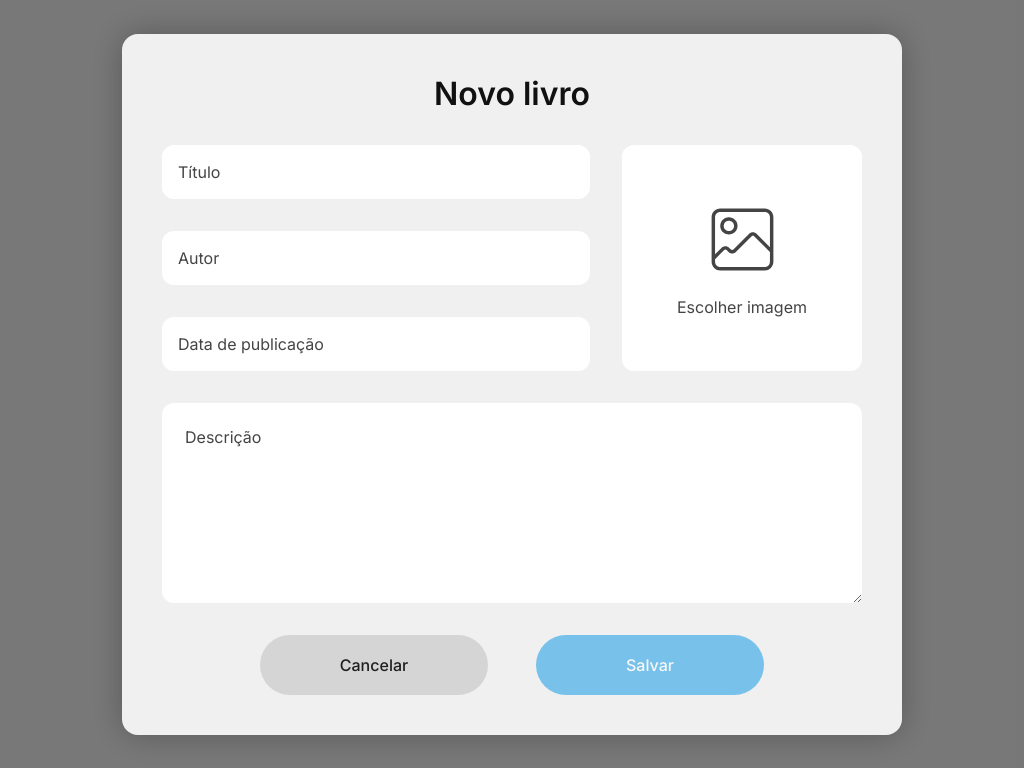
FormularioLivro › formata a data de publicação enquanto o usuário digita
Type "17081945" into the field with placeholder "Data de publicação".
click(376, 344); type("17081945")  # box x1=162 y1=316 x2=590 y2=370
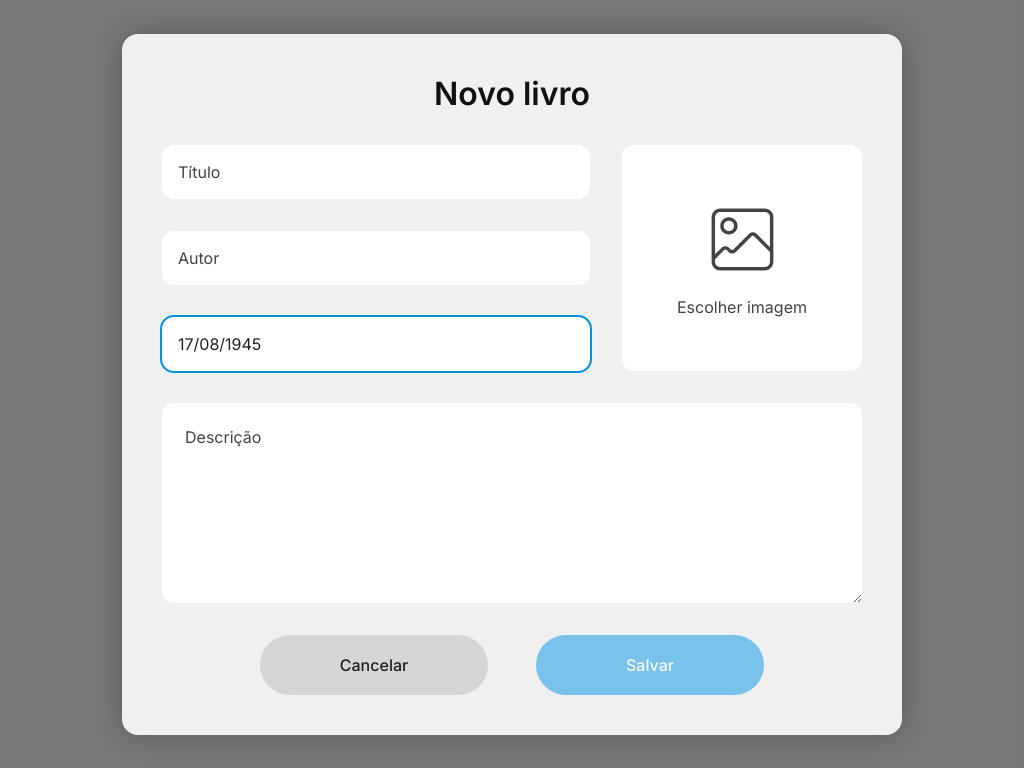
expect the field with placeholder "Data de publicação" holds "17/08/1945": met, box x1=162 y1=316 x2=590 y2=370
